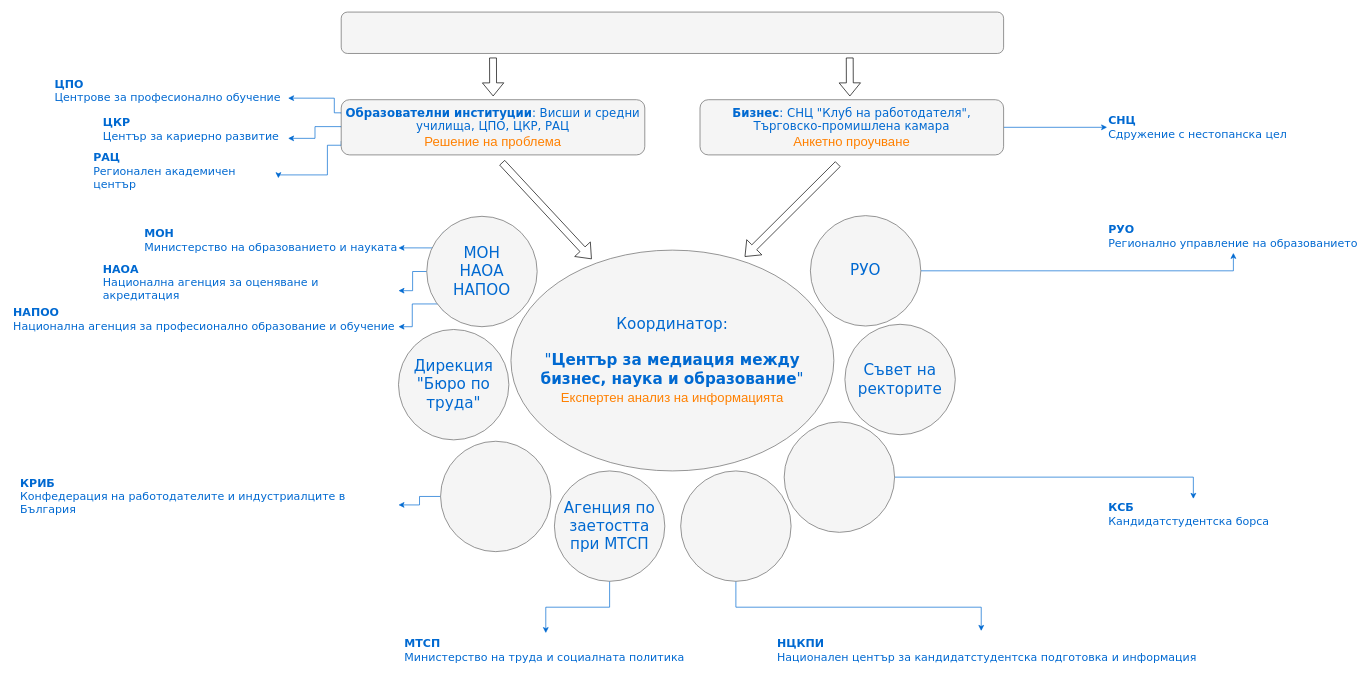
Some shapes in this 1371 by 680 pixel diagram are drawn without their labels. The centre of each missing label's shape, as x and y in pixels:
Алгоритъм на взаимодействие между триадата бизнес, наука и образование: (x=672, y=32)
КРИБ: (x=495, y=496)
КСБ: (x=839, y=476)
НЦКПИ: (x=735, y=525)
